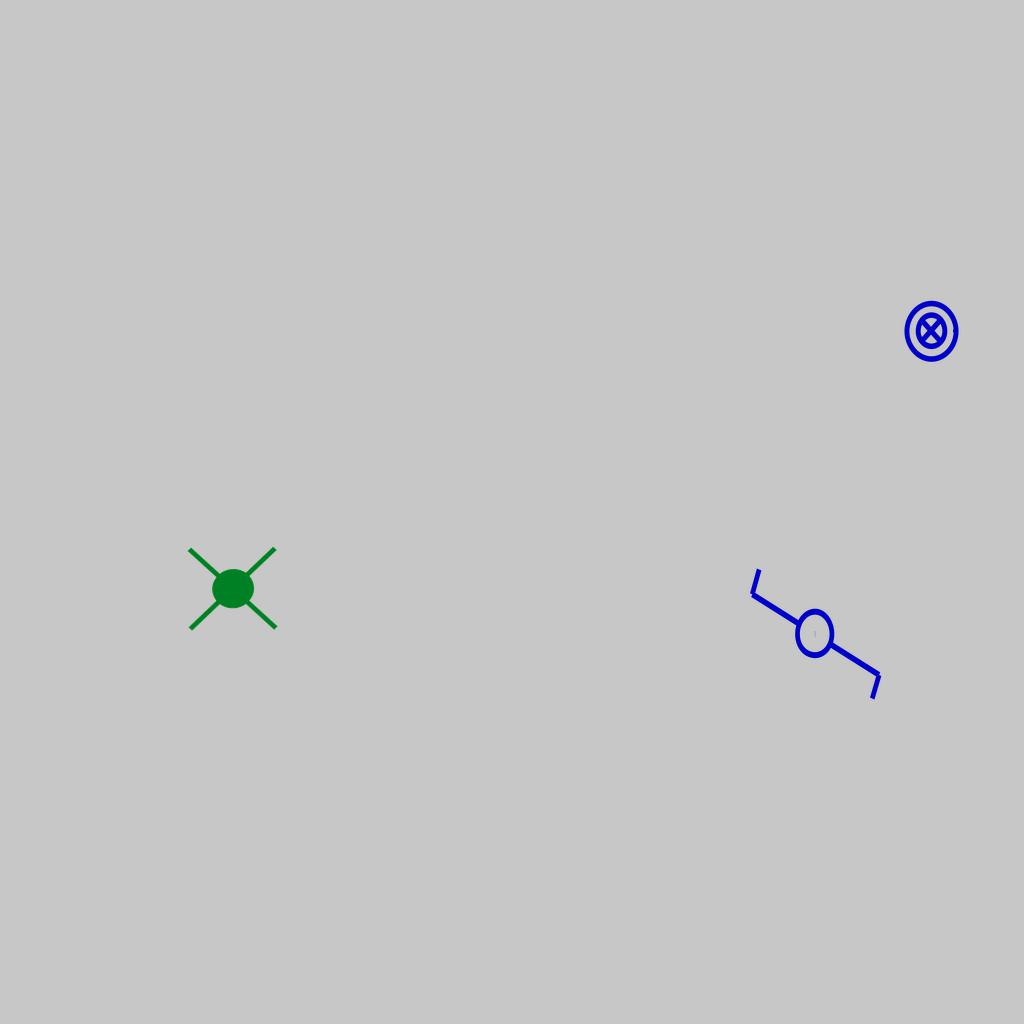Notlichtbaustein_in_Allgemeinbeleuchtug_engebaut_Einbau_(1UG_und_2UG_Aufbauvaria: (183, 536, 283, 639)
Taster_beleuchtet: (898, 298, 964, 364)
Wechselschalter: (745, 547, 889, 704)
